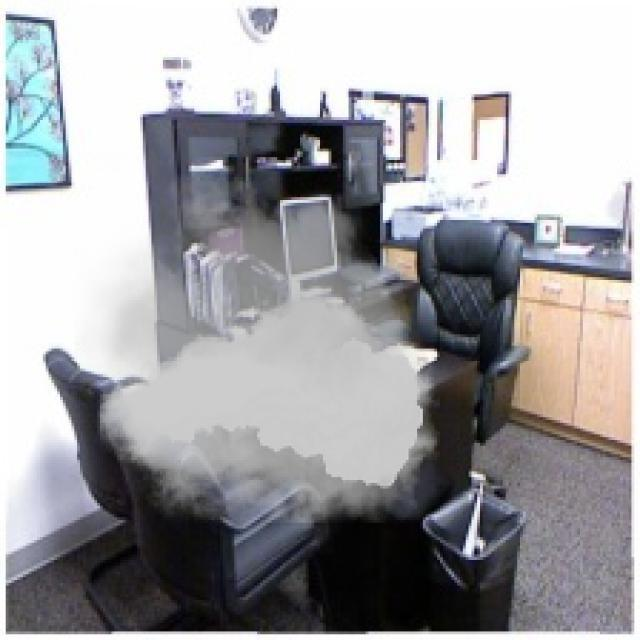Smoke: (74, 152, 449, 554)
